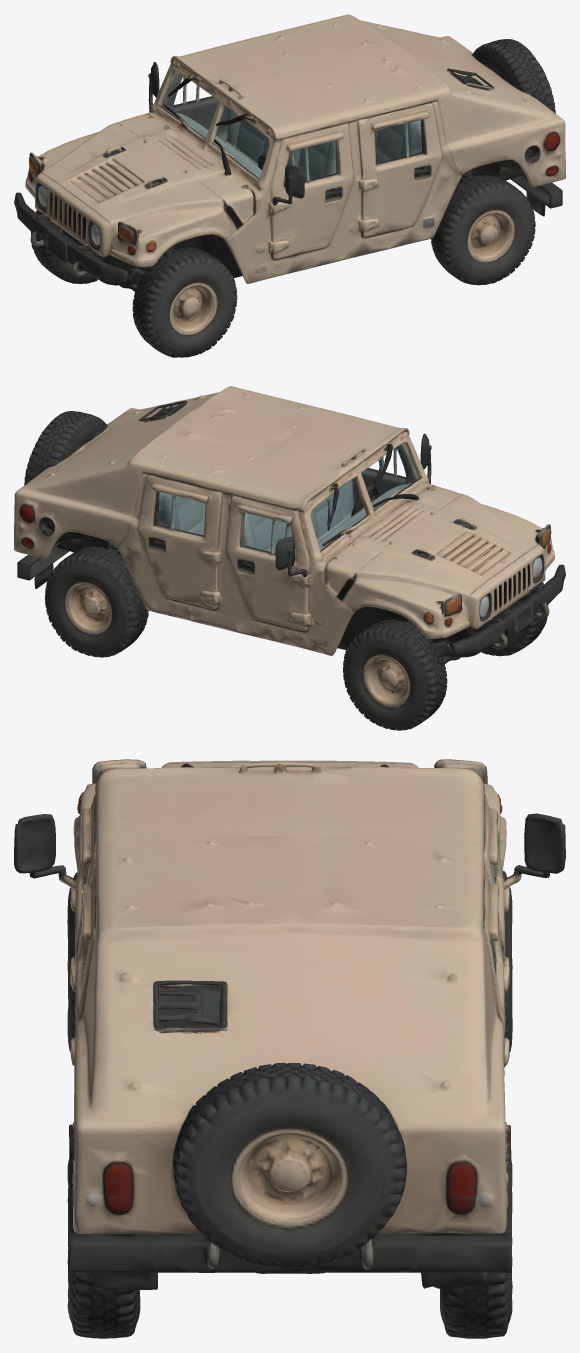
The model's file is 081_humvee_desert_tan.glb.
3 views of the same model, one above another, from view 1: azimuth 30°, elevation 25°; view 2: azimuth 150°, elevation 25°; view 3: azimuth 270°, elevation 25° (orthographic). The views are drawn at different scales.
Visible parts, largest first — view 1: geometry_0; view 2: geometry_0; view 3: geometry_0.
Boxes of the visible parts, box(x1,y1,x2,y2) form: geometry_0: box(14, 14, 565, 357); geometry_0: box(14, 386, 565, 730); geometry_0: box(14, 759, 565, 1338).
Bounding box in the file's own units: 5 × 2.09 × 2.72.
1 material, 1 textured.
